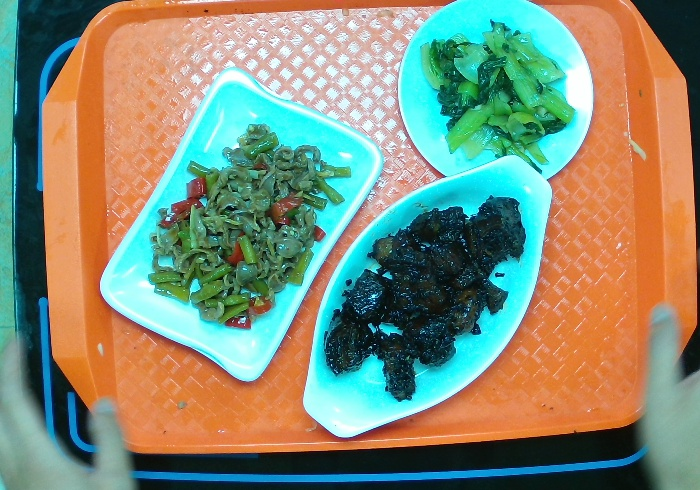RJxy-Si_Fang_Ao_Bian_Wan: (98, 65, 385, 383)
RJxy-Xiao_Yuan_Die: (396, 1, 596, 184)
RJxy-Yu_Pan: (301, 153, 555, 439)
